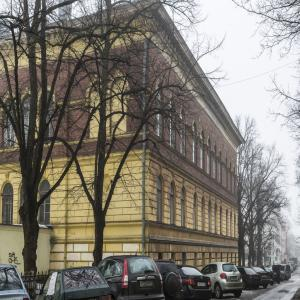Vehicle-registration-plate: (141, 281, 154, 287), (199, 282, 207, 287), (231, 278, 238, 281)
